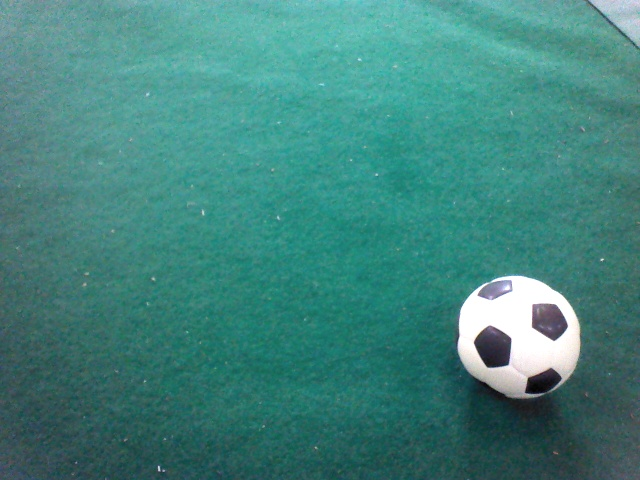ball: (164, 276, 311, 429)
